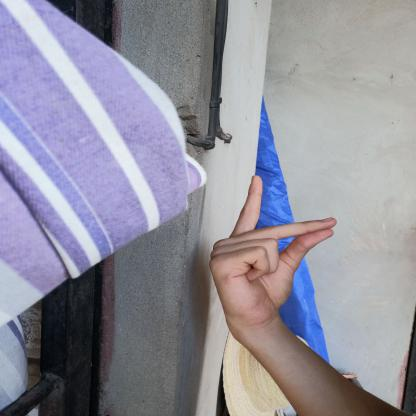TAA: (198, 165, 346, 335)
